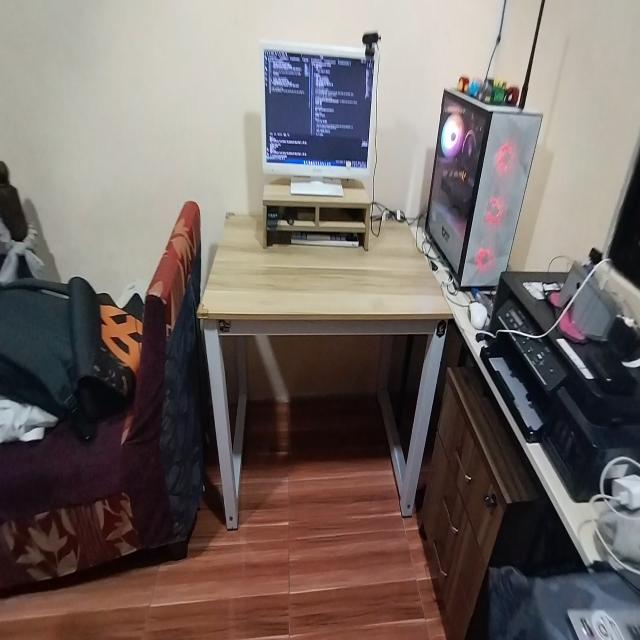table: (201, 200, 452, 540)
